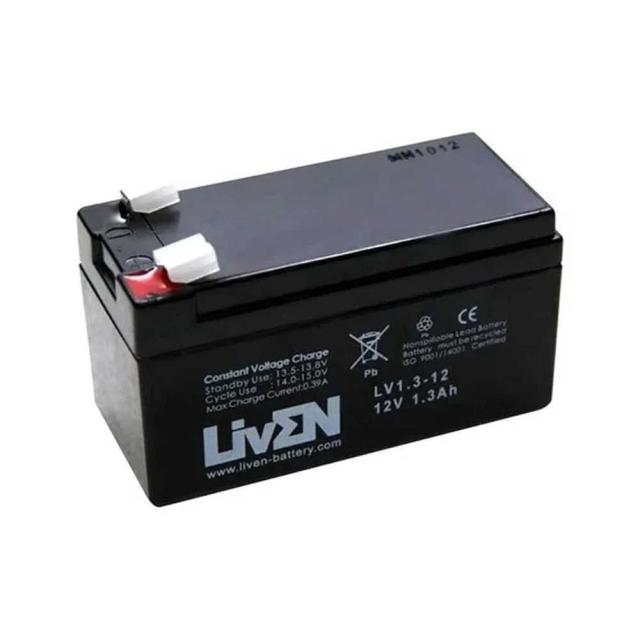electronic: (22, 118, 639, 640)
